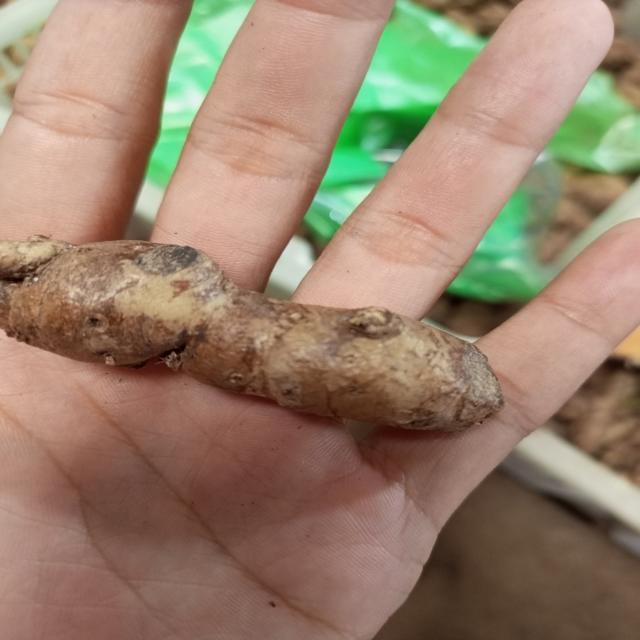ginger: (13, 234, 508, 428)
